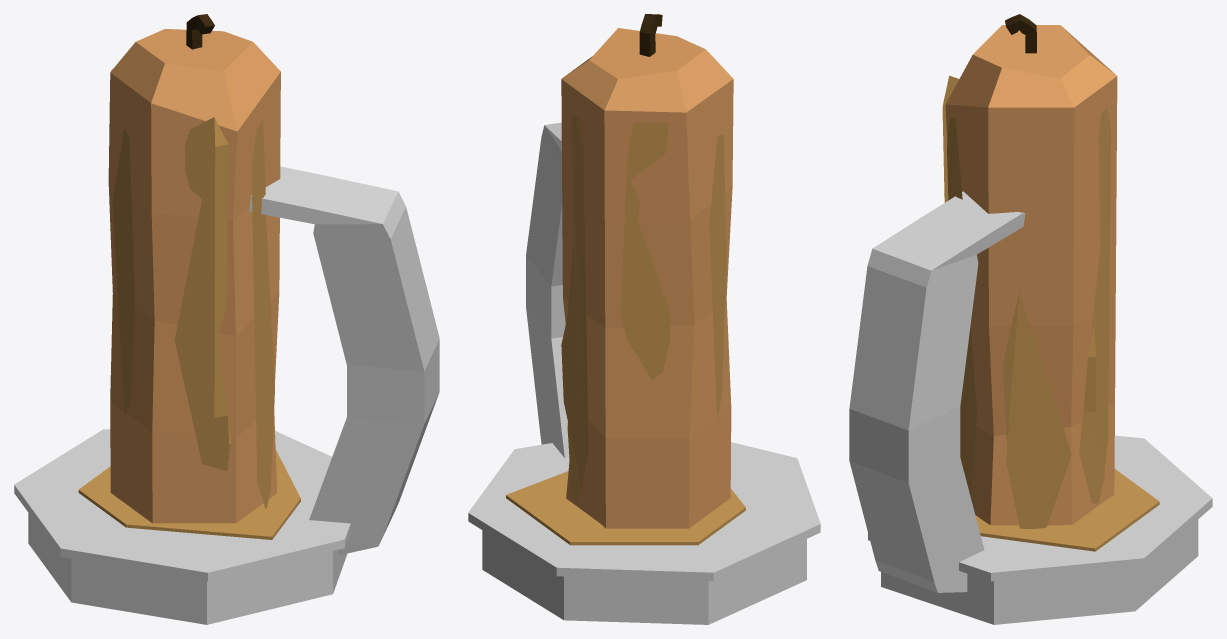
Rendered from CandleReReExported.fbx.
The picture shows the model from 3 angles, left to right: view 1: azimuth 30°, elevation 25°; view 2: azimuth 150°, elevation 25°; view 3: azimuth 270°, elevation 25°; orthographic projection.
Parts seen in each view (by area): view 1: Candle, Handle, Dish, Melted wax, Cylinder, Wick; view 2: Candle, Dish, Melted wax, Handle, Cylinder, Wick; view 3: Candle, Handle, Dish, Melted wax, Cylinder, Wick.
Part boxes in pixels (box(x1,y1,x2,y2)): Candle: box(108, 29, 280, 523); Handle: box(249, 166, 439, 555); Dish: box(14, 429, 350, 624); Melted wax: box(111, 69, 274, 508); Cylinder: box(78, 450, 300, 539); Wick: box(186, 14, 214, 49); Candle: box(561, 28, 733, 528); Dish: box(468, 442, 820, 624); Melted wax: box(561, 113, 726, 503); Handle: box(526, 122, 569, 458); Cylinder: box(506, 471, 745, 545); Wick: box(639, 14, 662, 56); Candle: box(945, 25, 1117, 525); Handle: box(849, 191, 1025, 592); Dish: box(868, 435, 1212, 624); Melted wax: box(942, 75, 1110, 528); Cylinder: box(975, 469, 1159, 551); Wick: box(1005, 14, 1036, 53).
Size of the model in its own units: 232 by 358 by 218.
